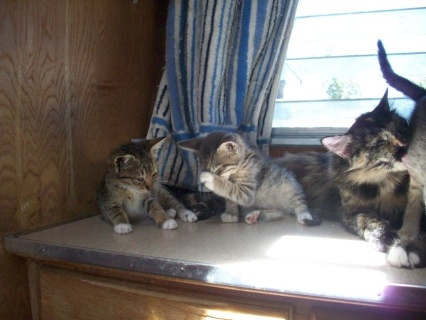Cat: (276, 85, 410, 251), (177, 128, 310, 225), (375, 36, 426, 266), (94, 135, 195, 232)
